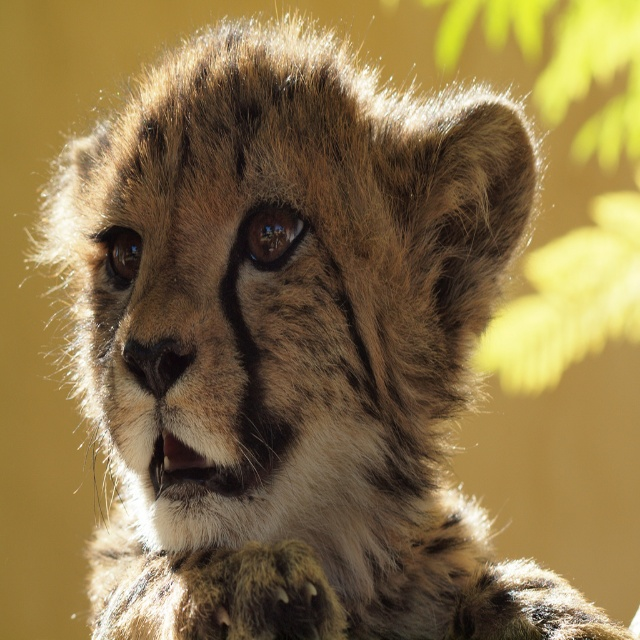Cheetah: (19, 5, 637, 639)
